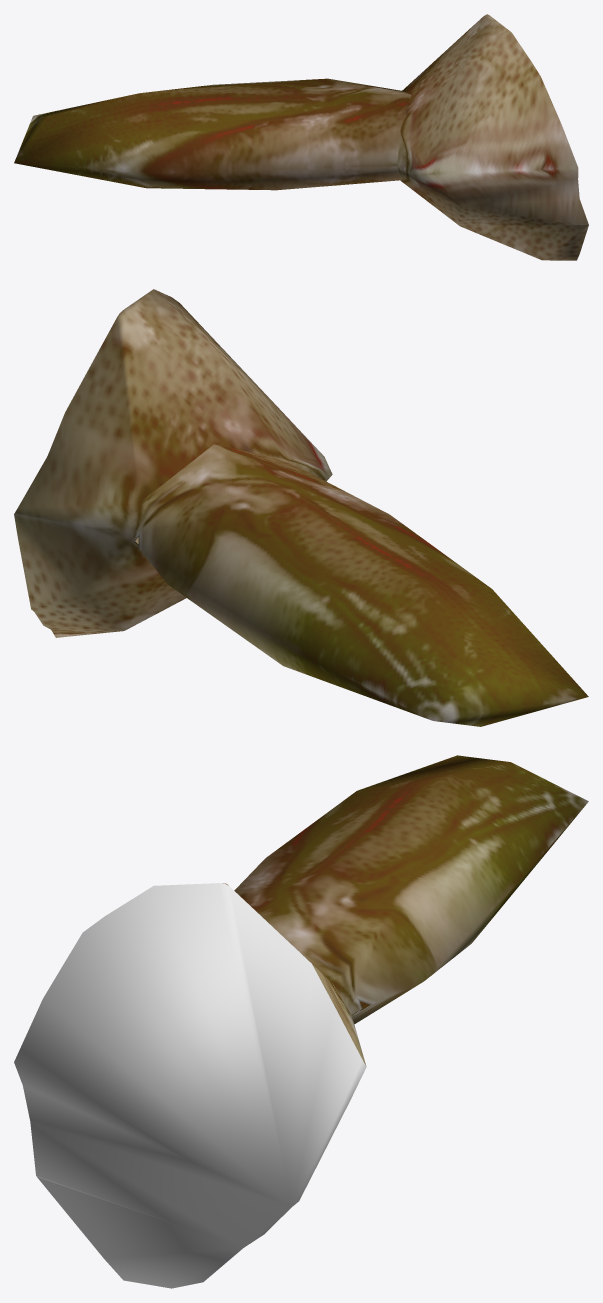
The model's file is Shrimp3.fbx.
3 renders of one model, top to bottom at view 1: azimuth 30°, elevation 25°; view 2: azimuth 150°, elevation 25°; view 3: azimuth 270°, elevation 25°, orthographic. The views are drawn at different scales.
Visible parts, largest first — view 1: Shrimp002; view 2: Shrimp002; view 3: Shrimp002.
Part boxes in pixels (left/top/right/bottom): Shrimp002: left=14, top=14, right=588, bottom=260; Shrimp002: left=14, top=289, right=588, bottom=726; Shrimp002: left=14, top=755, right=588, bottom=1288.
Bounding box in the file's own units: 772 × 395 × 563.
Materials: 2 (1 with a texture image).
